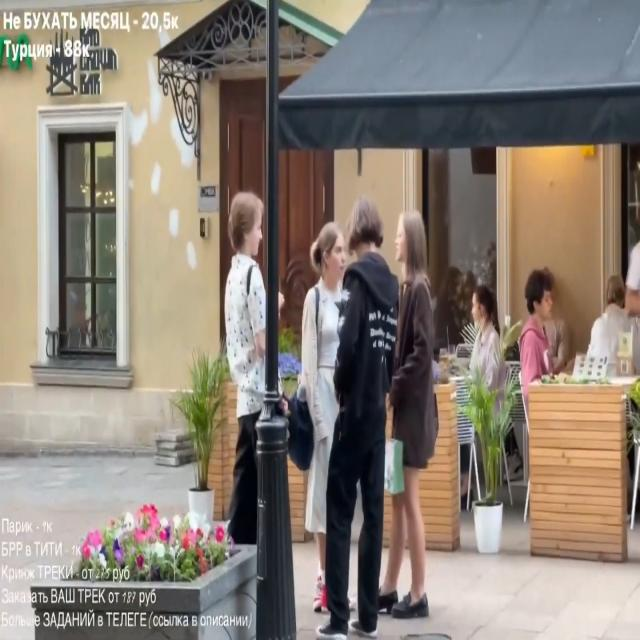Person: (322, 209, 399, 637), (220, 192, 273, 538), (584, 273, 639, 372)
